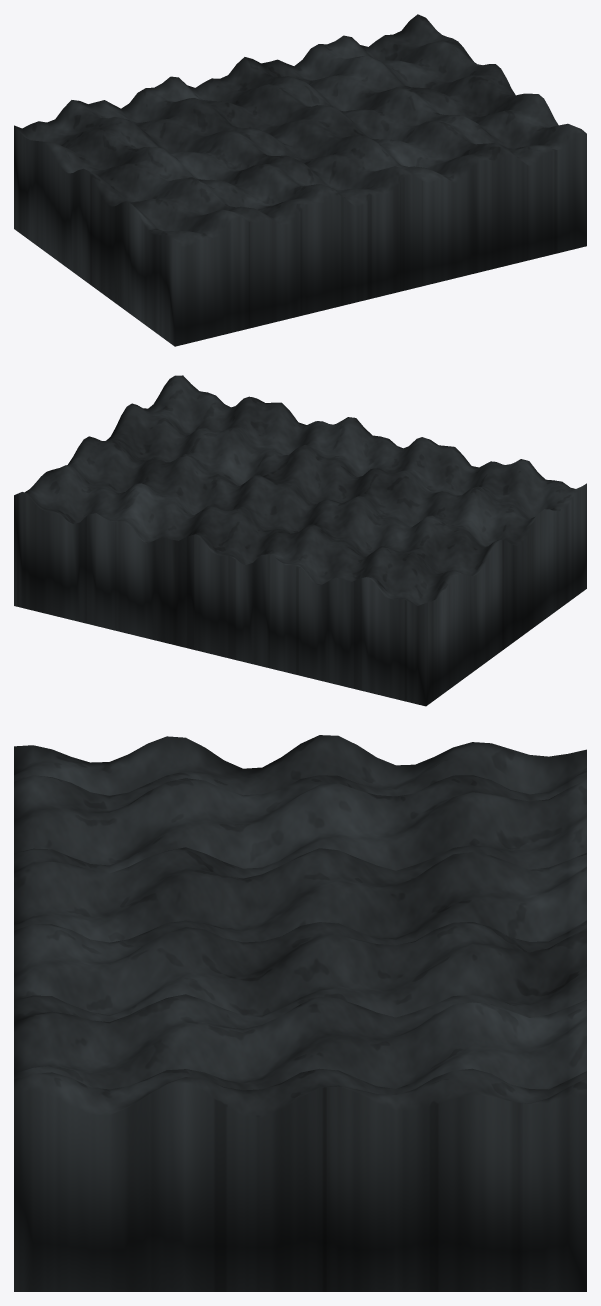
Rendered from PROJECT_Z_VR26_04_Basalt_Slab_Fractured.glb.
3 views of the same model, one above another, from view 1: azimuth 30°, elevation 25°; view 2: azimuth 150°, elevation 25°; view 3: azimuth 270°, elevation 25° (orthographic). The views are drawn at different scales.
Parts seen in each view (by area): view 1: 04_Basalt_Slab_Fractured__RENDER_Fractured_Basalt_Slab; view 2: 04_Basalt_Slab_Fractured__RENDER_Fractured_Basalt_Slab; view 3: 04_Basalt_Slab_Fractured__RENDER_Fractured_Basalt_Slab.
Boxes of the visible parts, box(x1,y1,x2,y2) form: 04_Basalt_Slab_Fractured__RENDER_Fractured_Basalt_Slab: box(14, 14, 586, 346); 04_Basalt_Slab_Fractured__RENDER_Fractured_Basalt_Slab: box(14, 375, 586, 706); 04_Basalt_Slab_Fractured__RENDER_Fractured_Basalt_Slab: box(14, 735, 586, 1291).
Size of the model in its own units: 1.7 by 0.4671 by 1.15.
1 material, 1 textured.
